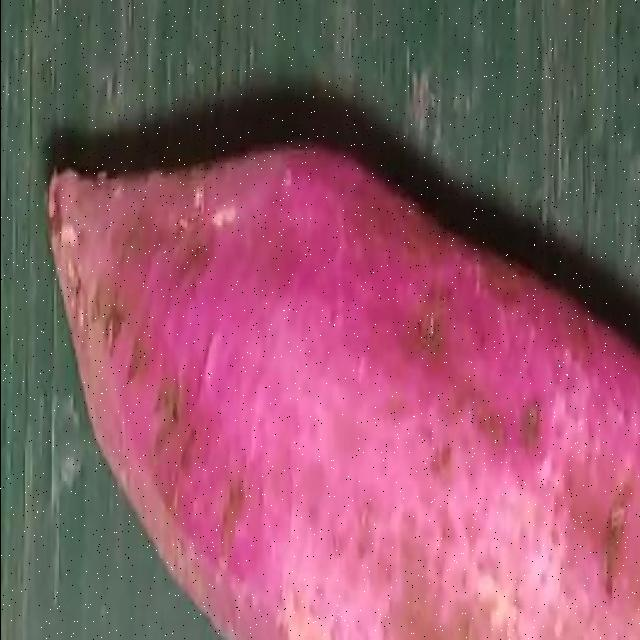Sweet Potato: (42, 144, 633, 626)
